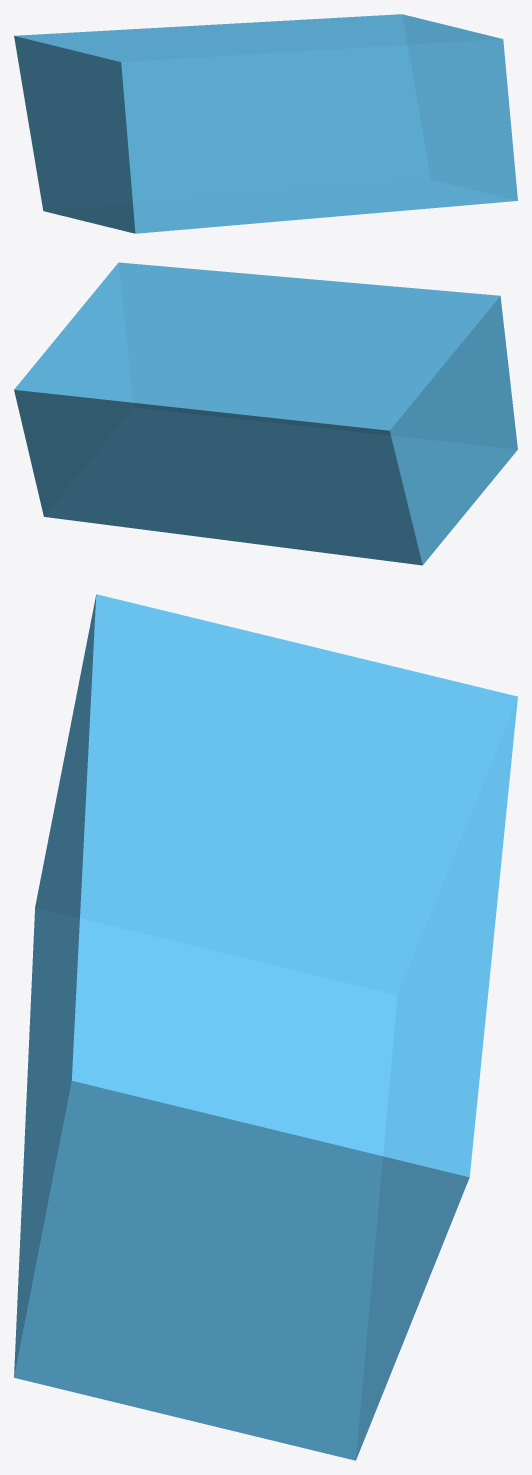
Rendered from Event_421127236_HErechit_39.fbx.
The picture shows the model from 3 angles, top to bottom: view 1: azimuth 30°, elevation 25°; view 2: azimuth 150°, elevation 25°; view 3: azimuth 270°, elevation 25°; orthographic projection. The views are drawn at different scales.
Parts seen in each view (by area): view 1: Model; view 2: Model; view 3: Model.
Boxes of the visible parts, x1,y1,x2,y2 form: Model: [14, 14, 517, 233]; Model: [14, 262, 517, 565]; Model: [14, 594, 517, 1460].
Size of the model in its own units: 0.6635 by 0.4325 by 0.3905.
